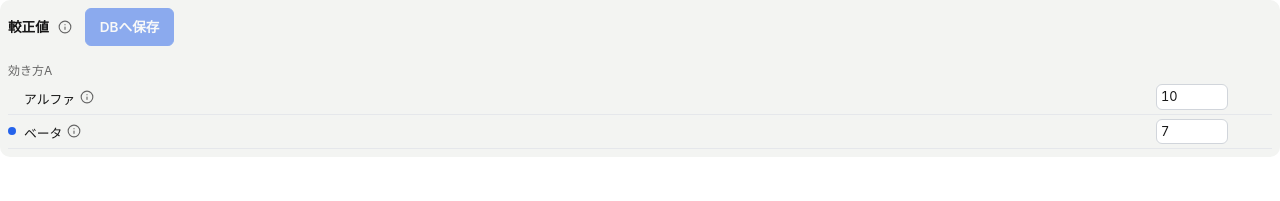
Test: TuningPanel › 途中の行で失敗したら、それより後の行は送らない
The image size is (1280, 201).
Expected: the button "DBへ保存" is shown, [85,8,174,46]
Replace the text in the number field named "アルファ" with "12" at {"x": 1192, "y": 97}, box [1156,84,1228,110]
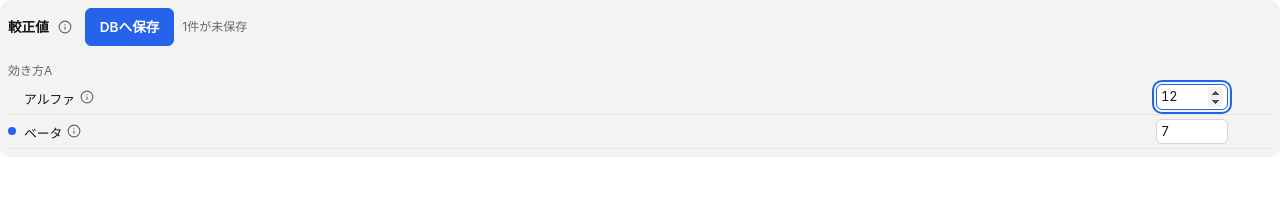
Replace the text in the number field named "ベータ" with "6" at {"x": 1192, "y": 131}, box [1156,119,1228,144]
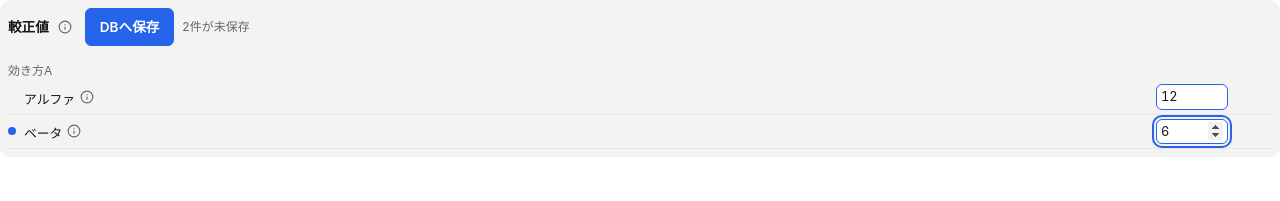
Click the button "DBへ保存" at {"x": 130, "y": 27}, box [85,8,174,46]
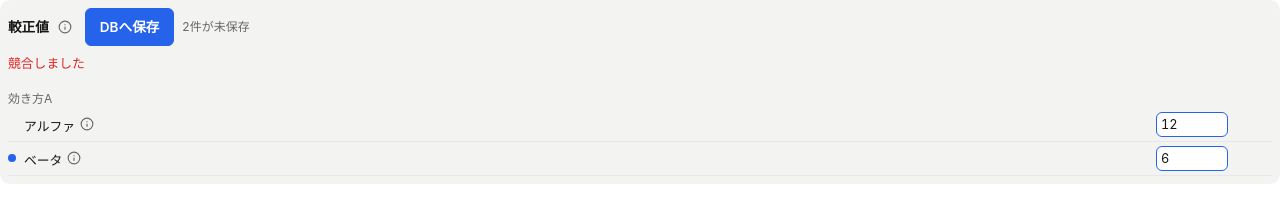
Expected: the text "2件が未保存" is shown, [182,18,250,36]
Expected: the text "競合しました" is shown, [8,56,85,71]
